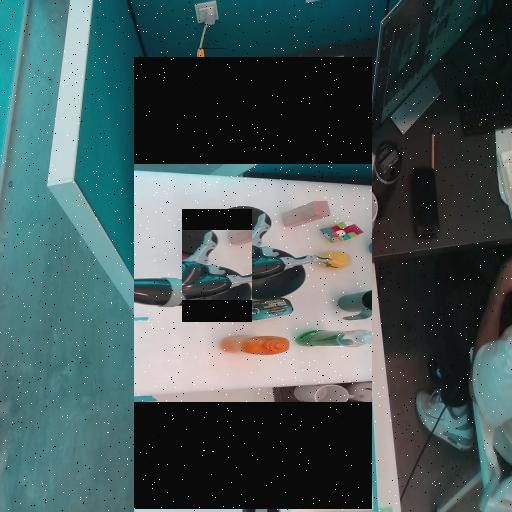bowl: (217, 250, 268, 302)
cleanser: (300, 161, 316, 241)
coffee_can: (176, 267, 214, 338)
jaco: (182, 231, 252, 302)
meat_can: (268, 245, 289, 298)
mug: (259, 143, 289, 199)
mustard_bottle: (306, 249, 324, 317)
rubik: (190, 185, 212, 207)
soup_can: (290, 78, 308, 133)
tennis_ball: (221, 188, 238, 218)
windex: (198, 49, 225, 167)
wooden_block: (170, 219, 195, 244)
workspace: (134, 171, 372, 399)
